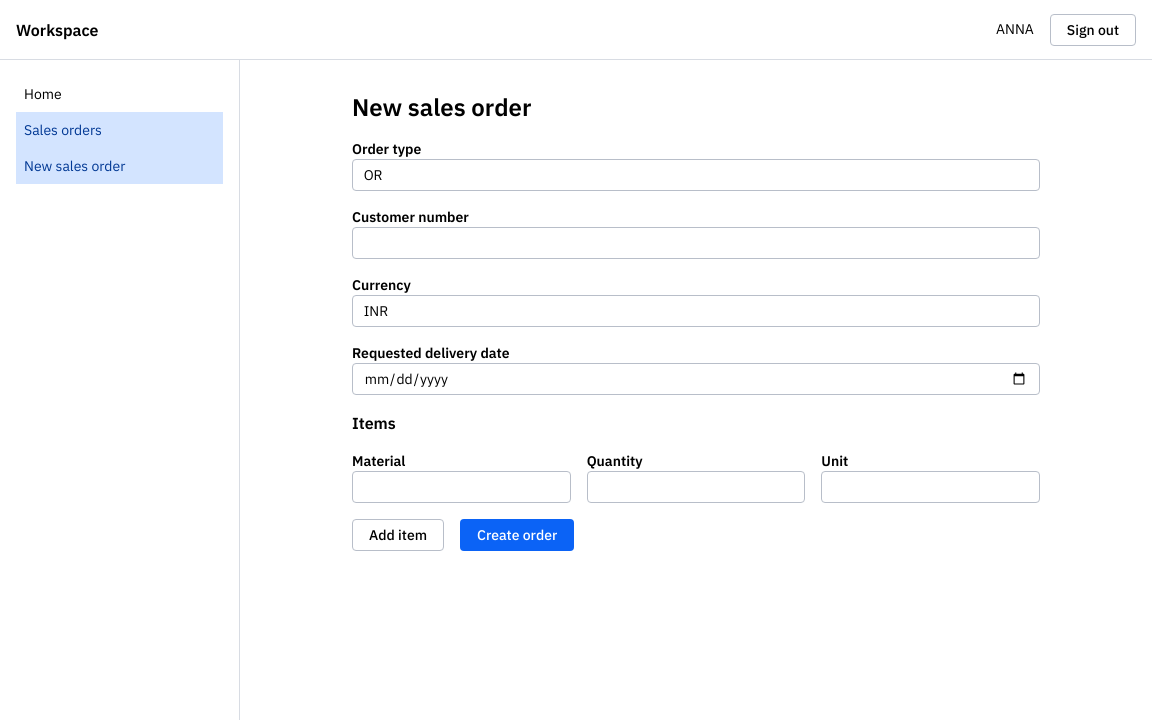
submit › sends the typed values and shows the order number
Step 1. Type " 0000100001 " into the field labelled "Customer number" → (696, 243), box [352, 227, 1040, 259]
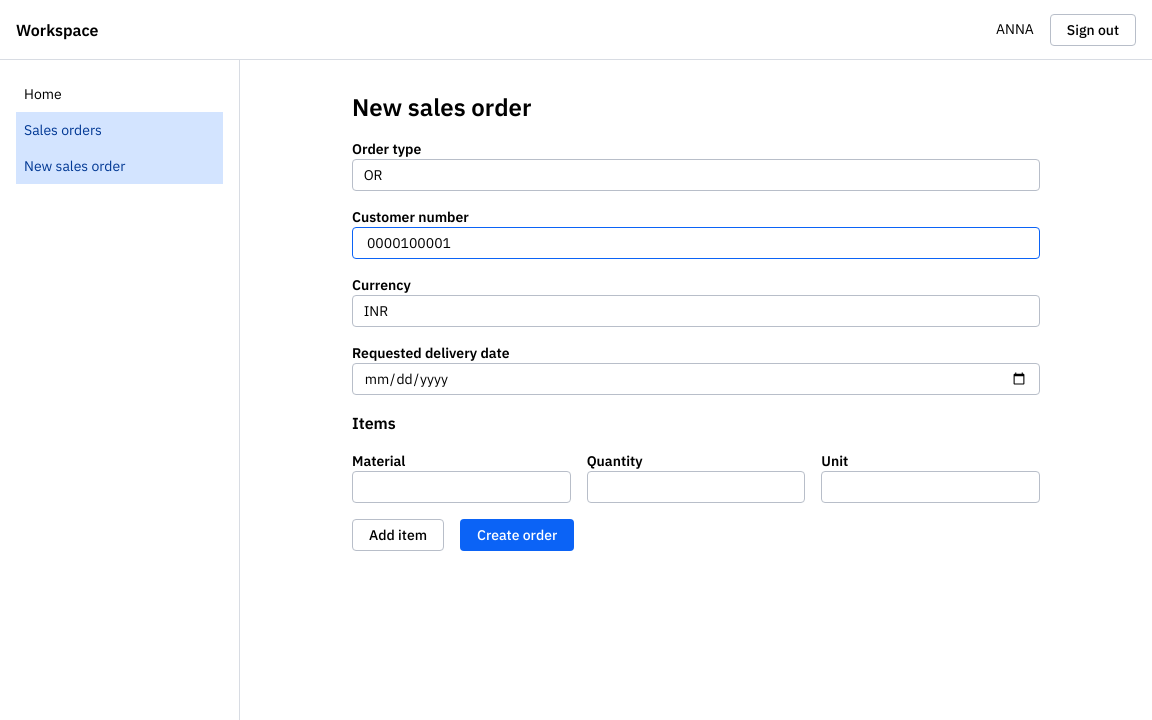
Step 2. Type "RM-1001" into the field labelled "Material" → (461, 487), box [352, 471, 571, 503]
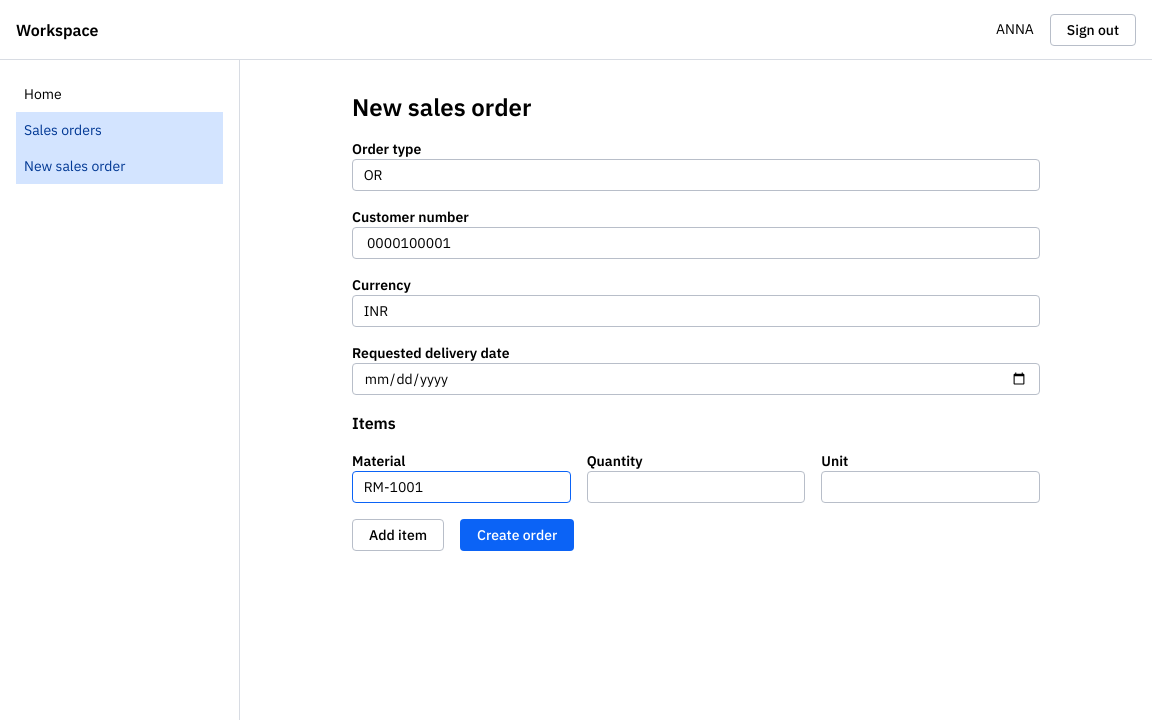
Step 3. Type "5" into the field labelled "Quantity" → (696, 487), box [587, 471, 805, 503]
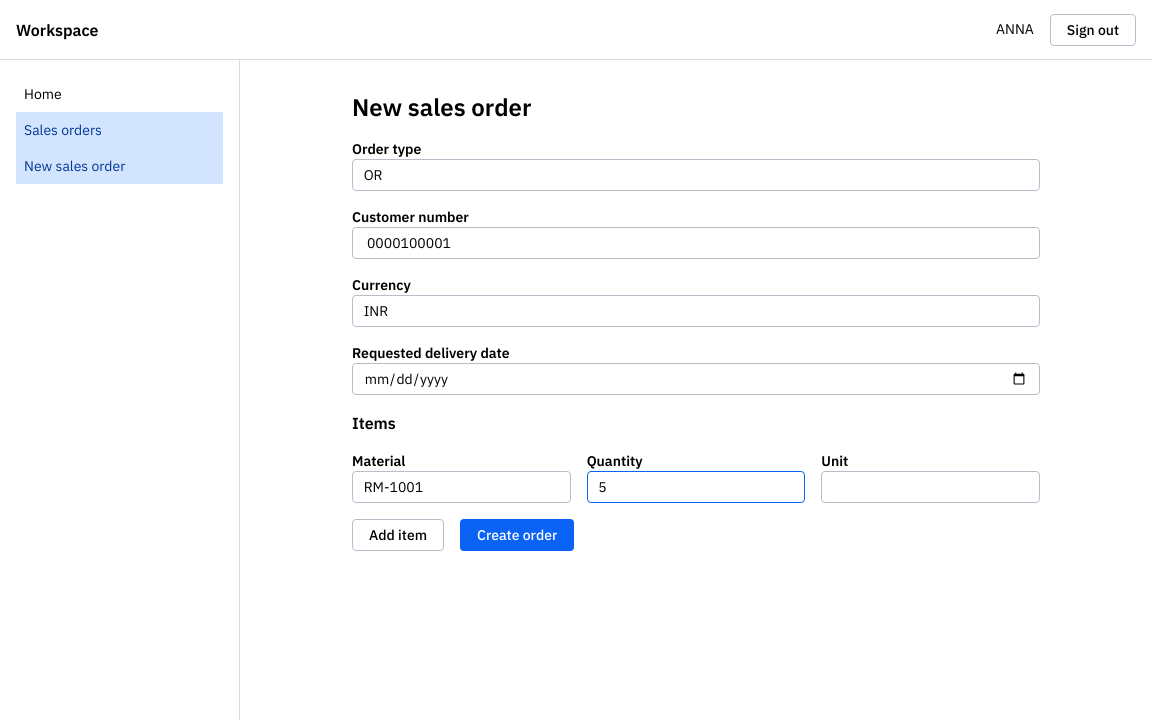
Step 4. Type "KG" into the field labelled "Unit" → (931, 487), box [821, 471, 1040, 503]
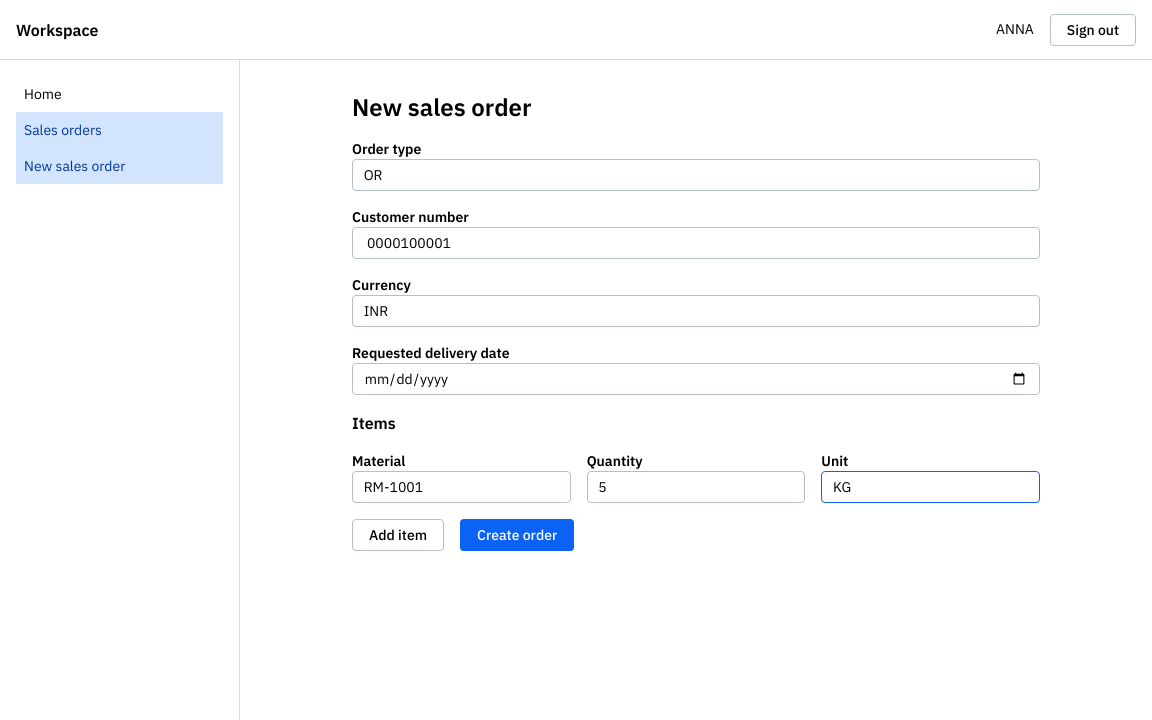
Step 5. Click the button "Create order" → (517, 535), box [460, 519, 574, 551]
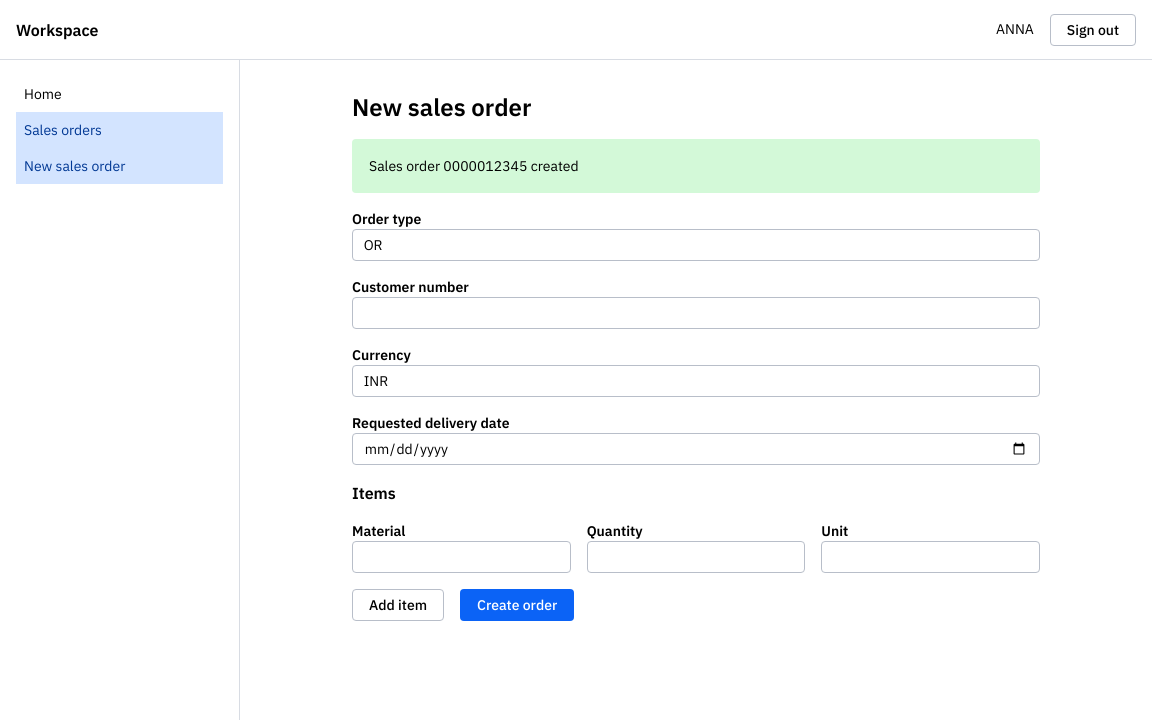
Expected: the text "Sales order 0000012345 created" is shown, [369, 157, 579, 175]
Expected: the field labelled "Customer number" is empty, [352, 297, 1040, 329]
